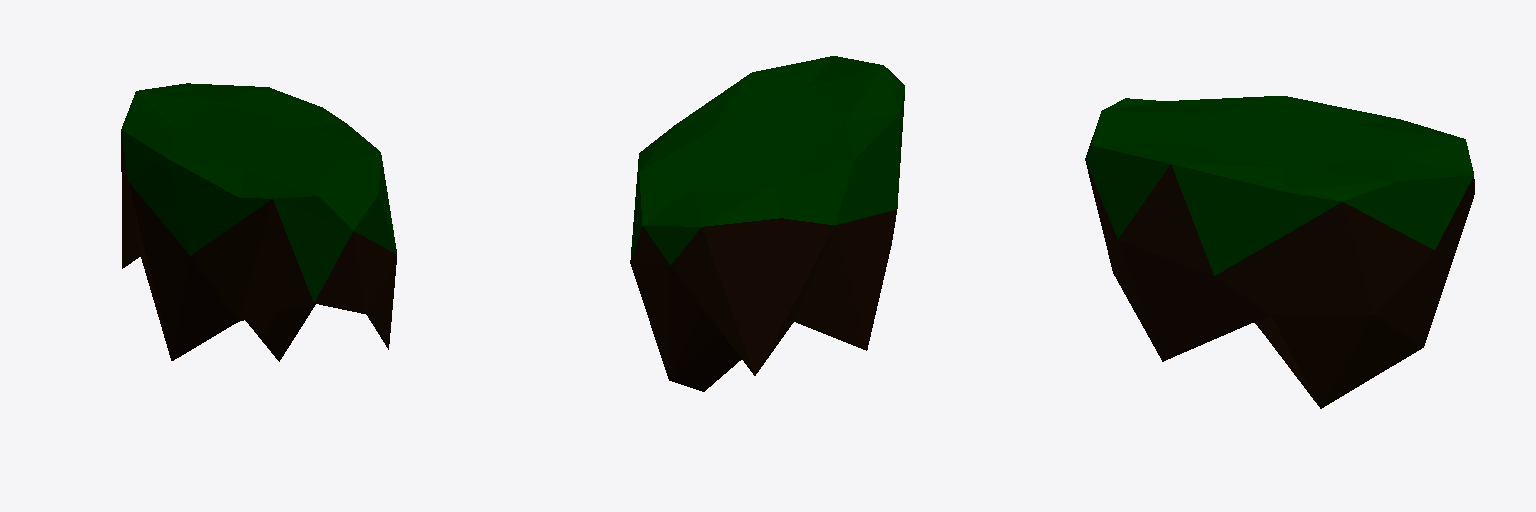
Rendered from floatingisland_3.obj.
3 renders of one model, left to right at view 1: azimuth 30°, elevation 25°; view 2: azimuth 150°, elevation 25°; view 3: azimuth 270°, elevation 25°, orthographic.
Visible parts, largest first — view 1: Icosphere.004; view 2: Icosphere.004; view 3: Icosphere.004.
Boxes of the visible parts, x1=… form: Icosphere.004: x1=121, y1=83, x2=396, y2=361; Icosphere.004: x1=630, y1=56, x2=904, y2=391; Icosphere.004: x1=1085, y1=96, x2=1474, y2=408.
Size of the model in its own units: 1.9 by 2.46 by 3.29.